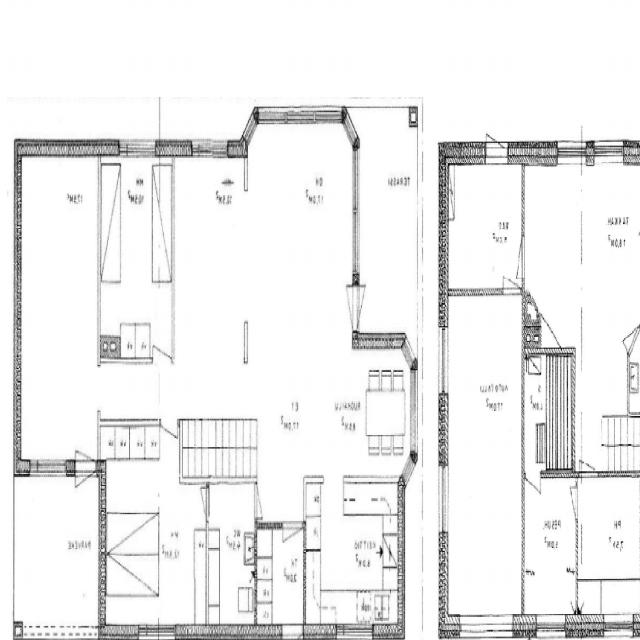door: (486, 91, 508, 165), (76, 459, 96, 524), (76, 412, 96, 476), (353, 285, 379, 330), (333, 285, 359, 330), (617, 304, 639, 356), (283, 522, 302, 572), (580, 428, 598, 477), (153, 316, 171, 363), (504, 236, 524, 278), (161, 419, 178, 463), (504, 250, 520, 295), (254, 484, 272, 518), (526, 471, 540, 512), (192, 488, 208, 521), (562, 488, 578, 520), (282, 624, 302, 640)
